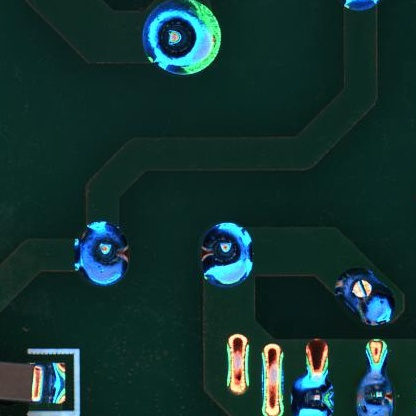spot: (140, 2, 222, 75), (76, 220, 132, 288), (332, 269, 396, 326), (199, 222, 255, 287), (355, 369, 396, 416), (293, 377, 333, 416)
